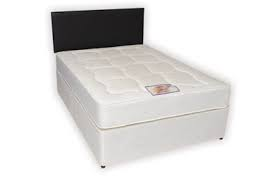bed-matress: (56, 45, 234, 128)
